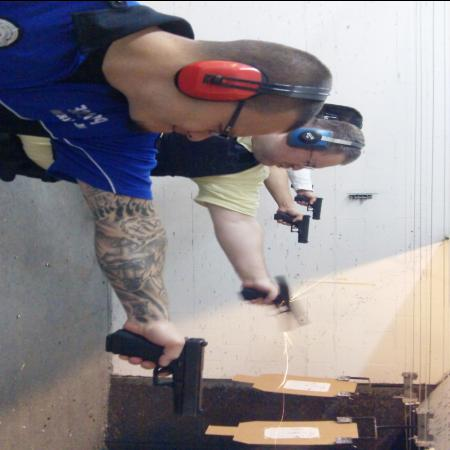Pistol: (106, 328, 208, 417), (239, 274, 299, 316), (274, 210, 312, 242), (294, 192, 326, 218)
